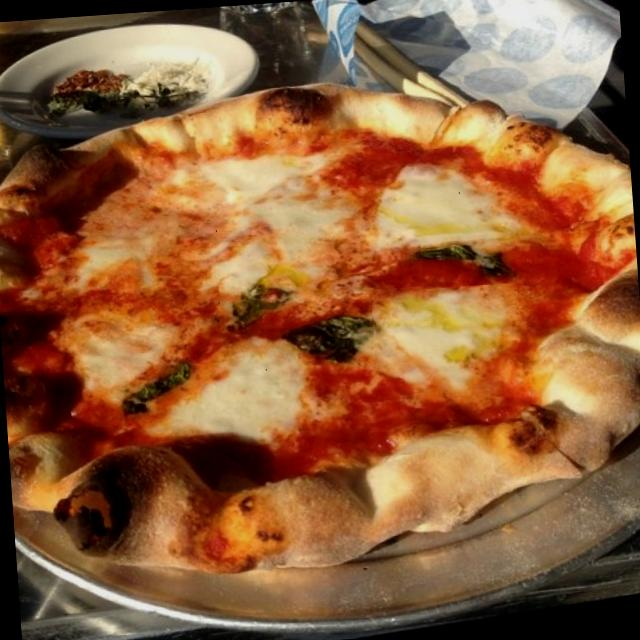basil: (114, 349, 202, 422), (294, 298, 374, 366), (218, 274, 304, 336), (420, 234, 517, 288)
cheese: (183, 144, 374, 304), (362, 142, 542, 260), (370, 280, 524, 400), (186, 335, 326, 442), (58, 302, 176, 385)
pizza: (0, 85, 640, 572)
